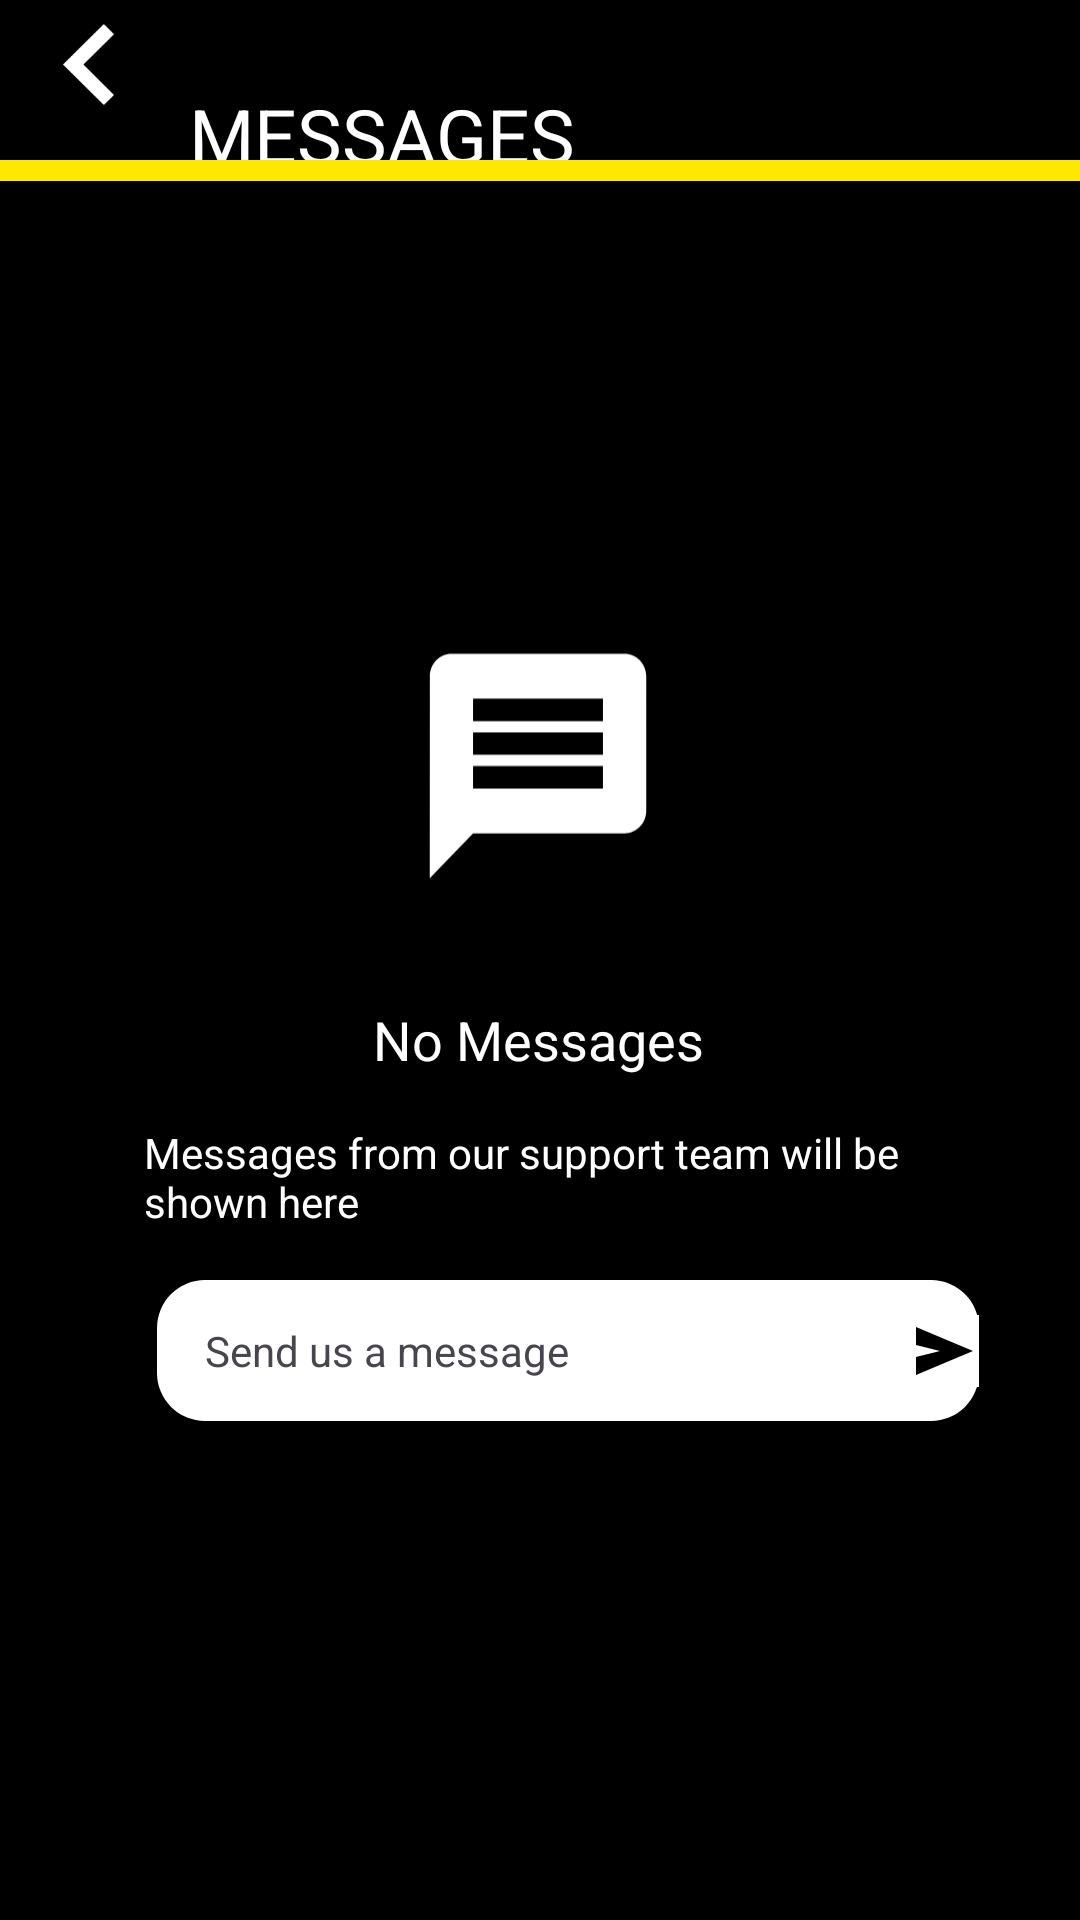

Screen size 1080px x 1920px. Icon name, then its center in pixels as (x,y):
backarrowsymbol: (88,64)
symbols send: (944,1351)
